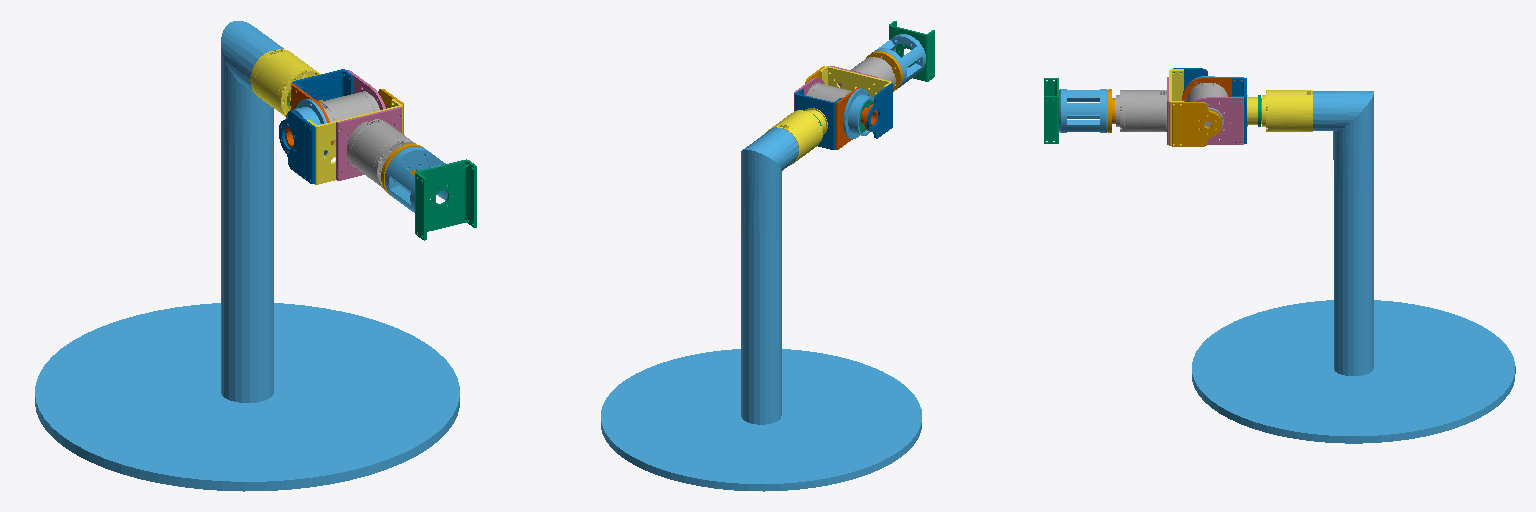
URDF robot description (full_assemble):
<?xml version="1.0" ?>
<robot name="full_assemble" xmlns:xacro="http://www.ros.org/wiki/xacro">

<link name="base_footprint"/>

<joint name="base_to_footprint" type="fixed">
  <parent link="base_footprint"/>
  <child link="base_link"/>
  <origin xyz="0 0 0" rpy="0 0 0"/>
</joint>

<link name="base_link">
  <inertial>
    <origin xyz="-2.515542343806863e-14 -0.000976562500000023 0.08286959134615383" rpy="0 0 0"/>
    <mass value="5.513495107050087"/>
    <inertia ixx="0.11442" iyy="0.114246" izz="0.068695" ixy="0.0" iyz="0.001492" ixz="-0.0"/>
  </inertial>
  <visual>
    <origin xyz="0 0 0" rpy="0 0 0"/>
    <geometry>
      <mesh filename="base_link.stl" scale="0.001 0.001 0.001"/>
    </geometry>
    <material name="silver"/>
  </visual>
  <collision>
    <origin xyz="0 0 0" rpy="0 0 0"/>
    <geometry>
      <mesh filename="base_link.stl" scale="0.001 0.001 0.001"/>
    </geometry>
  </collision>
</link>

<link name="output_support3_1">
  <inertial>
    <origin xyz="1.5400347663785398e-13 -0.0019999999996335033 -1.5543122344752192e-15" rpy="0 0 0"/>
    <mass value="0.010893393986506334"/>
    <inertia ixx="1e-06" iyy="2e-06" izz="1e-06" ixy="0.0" iyz="0.0" ixz="0.0"/>
  </inertial>
  <visual>
    <origin xyz="0.0 0.1139 -0.36" rpy="0 0 0"/>
    <geometry>
      <mesh filename="output_support3_1.stl" scale="0.001 0.001 0.001"/>
    </geometry>
    <material name="silver"/>
  </visual>
  <collision>
    <origin xyz="0.0 0.1139 -0.36" rpy="0 0 0"/>
    <geometry>
      <mesh filename="output_support3_1.stl" scale="0.001 0.001 0.001"/>
    </geometry>
  </collision>
</link>

<link name="output_support_1">
  <inertial>
    <origin xyz="1.890987366692798e-13 -0.007114253258033665 -1.5543122344752192e-15" rpy="0 0 0"/>
    <mass value="0.031035145871329013"/>
    <inertia ixx="3e-06" iyy="5e-06" izz="3e-06" ixy="-0.0" iyz="0.0" ixz="0.0"/>
  </inertial>
  <visual>
    <origin xyz="-0.0 0.1179 -0.36" rpy="0 0 0"/>
    <geometry>
      <mesh filename="output_support_1.stl" scale="0.001 0.001 0.001"/>
    </geometry>
    <material name="silver"/>
  </visual>
  <collision>
    <origin xyz="-0.0 0.1179 -0.36" rpy="0 0 0"/>
    <geometry>
      <mesh filename="output_support_1.stl" scale="0.001 0.001 0.001"/>
    </geometry>
  </collision>
</link>

<link name="output_connector_1">
  <inertial>
    <origin xyz="1.6209256159527285e-16 -0.00468229094210687 1.2684298056342413e-13" rpy="0 0 0"/>
    <mass value="0.043265150272751664"/>
    <inertia ixx="1.6e-05" iyy="3.5e-05" izz="2.1e-05" ixy="0.0" iyz="0.0" ixz="-0.0"/>
  </inertial>
  <visual>
    <origin xyz="-0.0 0.1319 -0.36" rpy="0 0 0"/>
    <geometry>
      <mesh filename="output_connector_1.stl" scale="0.001 0.001 0.001"/>
    </geometry>
    <material name="silver"/>
  </visual>
  <collision>
    <origin xyz="-0.0 0.1319 -0.36" rpy="0 0 0"/>
    <geometry>
      <mesh filename="output_connector_1.stl" scale="0.001 0.001 0.001"/>
    </geometry>
  </collision>
</link>

<link name="motor_side2_1">
  <inertial>
    <origin xyz="-0.001493844574866142 -0.02888279853166134 -0.029000000000001414" rpy="0 0 0"/>
    <mass value="0.025366571905479966"/>
    <inertia ixx="2.3e-05" iyy="1e-05" izz="1.3e-05" ixy="-0.0" iyz="0.0" ixz="0.0"/>
  </inertial>
  <visual>
    <origin xyz="0.02895 0.1379 -0.389" rpy="0 0 0"/>
    <geometry>
      <mesh filename="motor_side2_1.stl" scale="0.001 0.001 0.001"/>
    </geometry>
    <material name="silver"/>
  </visual>
  <collision>
    <origin xyz="0.02895 0.1379 -0.389" rpy="0 0 0"/>
    <geometry>
      <mesh filename="motor_side2_1.stl" scale="0.001 0.001 0.001"/>
    </geometry>
  </collision>
</link>

<link name="motor_side_1">
  <inertial>
    <origin xyz="0.001493844574866142 -0.028882798531661535 -0.029000000000001858" rpy="0 0 0"/>
    <mass value="0.02536657190547998"/>
    <inertia ixx="2.3e-05" iyy="1e-05" izz="1.3e-05" ixy="0.0" iyz="0.0" ixz="0.0"/>
  </inertial>
  <visual>
    <origin xyz="-0.02895 0.1379 -0.389" rpy="0 0 0"/>
    <geometry>
      <mesh filename="motor_side_1.stl" scale="0.001 0.001 0.001"/>
    </geometry>
    <material name="silver"/>
  </visual>
  <collision>
    <origin xyz="-0.02895 0.1379 -0.389" rpy="0 0 0"/>
    <geometry>
      <mesh filename="motor_side_1.stl" scale="0.001 0.001 0.001"/>
    </geometry>
  </collision>
</link>

<link name="motor_1">
  <inertial>
    <origin xyz="0.031351405997629256 6.626127693754036e-08 -1.470049248997185e-09" rpy="0 0 0"/>
    <mass value="0.33029848857980765"/>
    <inertia ixx="0.000111" iyy="0.000151" izz="0.000154" ixy="0.0" iyz="-0.0" ixz="-0.0"/>
  </inertial>
  <visual>
    <origin xyz="0.02895 0.1799 -0.36" rpy="0 0 0"/>
    <geometry>
      <mesh filename="motor_1.stl" scale="0.001 0.001 0.001"/>
    </geometry>
    <material name="silver"/>
  </visual>
  <collision>
    <origin xyz="0.02895 0.1799 -0.36" rpy="0 0 0"/>
    <geometry>
      <mesh filename="motor_1.stl" scale="0.001 0.001 0.001"/>
    </geometry>
  </collision>
</link>

<link name="output_connector3_1">
  <inertial>
    <origin xyz="0.0038399224911232696 -0.014367781223695891 -1.8318679906315083e-15" rpy="0 0 0"/>
    <mass value="0.031188103074646926"/>
    <inertia ixx="1.6e-05" iyy="7e-06" izz="9e-06" ixy="0.0" iyz="0.0" ixz="0.0"/>
  </inertial>
  <visual>
    <origin xyz="-0.03495 0.1799 -0.36" rpy="0 0 0"/>
    <geometry>
      <mesh filename="output_connector3_1.stl" scale="0.001 0.001 0.001"/>
    </geometry>
    <material name="silver"/>
  </visual>
  <collision>
    <origin xyz="-0.03495 0.1799 -0.36" rpy="0 0 0"/>
    <geometry>
      <mesh filename="output_connector3_1.stl" scale="0.001 0.001 0.001"/>
    </geometry>
  </collision>
</link>

<link name="bearing_housing_1">
  <inertial>
    <origin xyz="-0.0060896907216490895 3.708144902248023e-13 -1.609823385706477e-15" rpy="0 0 0"/>
    <mass value="0.011427543277432882"/>
    <inertia ixx="7e-06" iyy="4e-06" izz="4e-06" ixy="-0.0" iyz="-0.0" ixz="0.0"/>
  </inertial>
  <visual>
    <origin xyz="0.03195 0.1799 -0.36" rpy="0 0 0"/>
    <geometry>
      <mesh filename="bearing_housing_1.stl" scale="0.001 0.001 0.001"/>
    </geometry>
    <material name="silver"/>
  </visual>
  <collision>
    <origin xyz="0.03195 0.1799 -0.36" rpy="0 0 0"/>
    <geometry>
      <mesh filename="bearing_housing_1.stl" scale="0.001 0.001 0.001"/>
    </geometry>
  </collision>
</link>

<link name="bearing6022_1">
  <inertial>
    <origin xyz="-0.005999999999998909 3.672895321216174e-13 -1.887379141862766e-15" rpy="0 0 0"/>
    <mass value="0.01354864191738157"/>
    <inertia ixx="4e-06" iyy="2e-06" izz="2e-06" ixy="0.0" iyz="0.0" ixz="0.0"/>
  </inertial>
  <visual>
    <origin xyz="0.03295 0.1799 -0.36" rpy="0 0 0"/>
    <geometry>
      <mesh filename="bearing6022_1.stl" scale="0.001 0.001 0.001"/>
    </geometry>
    <material name="silver"/>
  </visual>
  <collision>
    <origin xyz="0.03295 0.1799 -0.36" rpy="0 0 0"/>
    <geometry>
      <mesh filename="bearing6022_1.stl" scale="0.001 0.001 0.001"/>
    </geometry>
  </collision>
</link>

<link name="output_connector5_1">
  <inertial>
    <origin xyz="-0.04752161856691327 -0.00221502766312065 -0.027000828138859845" rpy="0 0 0"/>
    <mass value="0.020648688290738768"/>
    <inertia ixx="7e-06" iyy="2.9e-05" izz="2.3e-05" ixy="-0.0" iyz="-0.0" ixz="0.0"/>
  </inertial>
  <visual>
    <origin xyz="-0.03795 0.2219 -0.387" rpy="0 0 0"/>
    <geometry>
      <mesh filename="output_connector5_1.stl" scale="0.001 0.001 0.001"/>
    </geometry>
    <material name="silver"/>
  </visual>
  <collision>
    <origin xyz="-0.03795 0.2219 -0.387" rpy="0 0 0"/>
    <geometry>
      <mesh filename="output_connector5_1.stl" scale="0.001 0.001 0.001"/>
    </geometry>
  </collision>
</link>

<link name="output_connector4_1">
  <inertial>
    <origin xyz="-0.0014933258024397572 0.021568275018213262 -0.02700000000000158" rpy="0 0 0"/>
    <mass value="0.008122894737451505"/>
    <inertia ixx="4e-06" iyy="2e-06" izz="2e-06" ixy="0.0" iyz="0.0" ixz="0.0"/>
  </inertial>
  <visual>
    <origin xyz="0.05695 0.2219 -0.387" rpy="0 0 0"/>
    <geometry>
      <mesh filename="output_connector4_1.stl" scale="0.001 0.001 0.001"/>
    </geometry>
    <material name="silver"/>
  </visual>
  <collision>
    <origin xyz="0.05695 0.2219 -0.387" rpy="0 0 0"/>
    <geometry>
      <mesh filename="output_connector4_1.stl" scale="0.001 0.001 0.001"/>
    </geometry>
  </collision>
</link>

<link name="bearing_axis_1">
  <inertial>
    <origin xyz="0.008678644763494184 3.7422842602552464e-13 -1.5543122344752192e-15" rpy="0 0 0"/>
    <mass value="0.005737333583618358"/>
    <inertia ixx="1e-06" iyy="1e-06" izz="1e-06" ixy="0.0" iyz="0.0" ixz="0.0"/>
  </inertial>
  <visual>
    <origin xyz="0.05695 0.1799 -0.36" rpy="0 0 0"/>
    <geometry>
      <mesh filename="bearing_axis_1.stl" scale="0.001 0.001 0.001"/>
    </geometry>
    <material name="silver"/>
  </visual>
  <collision>
    <origin xyz="0.05695 0.1799 -0.36" rpy="0 0 0"/>
    <geometry>
      <mesh filename="bearing_axis_1.stl" scale="0.001 0.001 0.001"/>
    </geometry>
  </collision>
</link>

<link name="motor_front_housing2_1">
  <inertial>
    <origin xyz="-0.03200000000036598 -0.001487279573599981 -0.021999999999994135" rpy="0 0 0"/>
    <mass value="0.008523906701431874"/>
    <inertia ixx="3e-06" iyy="8e-06" izz="4e-06" ixy="-0.0" iyz="0.0" ixz="-0.0"/>
  </inertial>
  <visual>
    <origin xyz="-0.032 0.2279 -0.382" rpy="0 0 0"/>
    <geometry>
      <mesh filename="motor_front_housing2_1.stl" scale="0.001 0.001 0.001"/>
    </geometry>
    <material name="silver"/>
  </visual>
  <collision>
    <origin xyz="-0.032 0.2279 -0.382" rpy="0 0 0"/>
    <geometry>
      <mesh filename="motor_front_housing2_1.stl" scale="0.001 0.001 0.001"/>
    </geometry>
  </collision>
</link>

<link name="motor2_1">
  <inertial>
    <origin xyz="6.627705426254238e-08 -0.031351406008431115 -1.470950583559727e-09" rpy="0 0 0"/>
    <mass value="0.33029848857980776"/>
    <inertia ixx="0.000151" iyy="0.000111" izz="0.000154" ixy="-0.0" iyz="0.0" ixz="-0.0"/>
  </inertial>
  <visual>
    <origin xyz="0.0 0.2309 -0.36" rpy="0 0 0"/>
    <geometry>
      <mesh filename="motor2_1.stl" scale="0.001 0.001 0.001"/>
    </geometry>
    <material name="silver"/>
  </visual>
  <collision>
    <origin xyz="0.0 0.2309 -0.36" rpy="0 0 0"/>
    <geometry>
      <mesh filename="motor2_1.stl" scale="0.001 0.001 0.001"/>
    </geometry>
  </collision>
</link>

<link name="output_connector6_1">
  <inertial>
    <origin xyz="-3.717046440258424e-13 -0.005551801742972429 -5.551115123125783e-17" rpy="0 0 0"/>
    <mass value="0.01461519167932431"/>
    <inertia ixx="2e-06" iyy="5e-06" izz="2e-06" ixy="0.0" iyz="0.0" ixz="-0.0"/>
  </inertial>
  <visual>
    <origin xyz="0.0 0.2948 -0.36" rpy="0 0 0"/>
    <geometry>
      <mesh filename="output_connector6_1.stl" scale="0.001 0.001 0.001"/>
    </geometry>
    <material name="silver"/>
  </visual>
  <collision>
    <origin xyz="0.0 0.2948 -0.36" rpy="0 0 0"/>
    <geometry>
      <mesh filename="output_connector6_1.stl" scale="0.001 0.001 0.001"/>
    </geometry>
  </collision>
</link>

<link name="arm_shoulder_frame2_1">
  <inertial>
    <origin xyz="-3.557328449562591e-13 -0.026508015567758336 -1.3877787807814457e-15" rpy="0 0 0"/>
    <mass value="0.05319229489327615"/>
    <inertia ixx="3.4e-05" iyy="2.6e-05" izz="3.9e-05" ixy="-0.0" iyz="-0.0" ixz="0.0"/>
  </inertial>
  <visual>
    <origin xyz="0.0 0.3038 -0.36" rpy="0 0 0"/>
    <geometry>
      <mesh filename="arm_shoulder_frame2_1.stl" scale="0.001 0.001 0.001"/>
    </geometry>
    <material name="silver"/>
  </visual>
  <collision>
    <origin xyz="0.0 0.3038 -0.36" rpy="0 0 0"/>
    <geometry>
      <mesh filename="arm_shoulder_frame2_1.stl" scale="0.001 0.001 0.001"/>
    </geometry>
  </collision>
</link>

<link name="output_connector_elbow_1">
  <inertial>
    <origin xyz="-3.6555203308807903e-13 -0.004682290941738665 -1.2972956042744954e-13" rpy="0 0 0"/>
    <mass value="0.016024129730648744"/>
    <inertia ixx="6e-06" iyy="1.3e-05" izz="8e-06" ixy="-0.0" iyz="-0.0" ixz="0.0"/>
  </inertial>
  <visual>
    <origin xyz="0.0 0.3638 -0.36" rpy="0 0 0"/>
    <geometry>
      <mesh filename="output_connector_elbow_1.stl" scale="0.001 0.001 0.001"/>
    </geometry>
    <material name="silver"/>
  </visual>
  <collision>
    <origin xyz="0.0 0.3638 -0.36" rpy="0 0 0"/>
    <geometry>
      <mesh filename="output_connector_elbow_1.stl" scale="0.001 0.001 0.001"/>
    </geometry>
  </collision>
</link>

<link name="motor0_1">
  <inertial>
    <origin xyz="6.626090957251306e-08 -0.03135140599762895 -1.4700493600194875e-09" rpy="0 0 0"/>
    <mass value="0.33029848857980765"/>
    <inertia ixx="0.000151" iyy="0.000111" izz="0.000154" ixy="-0.0" iyz="0.0" ixz="-0.0"/>
  </inertial>
  <visual>
    <origin xyz="-0.0 0.05 -0.36" rpy="0 0 0"/>
    <geometry>
      <mesh filename="motor0_1.stl" scale="0.001 0.001 0.001"/>
    </geometry>
    <material name="silver"/>
  </visual>
  <collision>
    <origin xyz="-0.0 0.05 -0.36" rpy="0 0 0"/>
    <geometry>
      <mesh filename="motor0_1.stl" scale="0.001 0.001 0.001"/>
    </geometry>
  </collision>
</link>

<joint name="Revolute 11" type="continuous">
  <origin xyz="-0.0 -0.0639 0.0" rpy="0 0 0"/>
  <parent link="motor0_1"/>
  <child link="output_support3_1"/>
  <axis xyz="-0.0 -1.0 -0.0"/>
</joint>

<joint name="Rigid 12" type="fixed">
  <origin xyz="0.0 -0.004 0.0" rpy="0 0 0"/>
  <parent link="output_support3_1"/>
  <child link="output_support_1"/>
</joint>

<joint name="Rigid 13" type="fixed">
  <origin xyz="0.0 -0.014 0.0" rpy="0 0 0"/>
  <parent link="output_support_1"/>
  <child link="output_connector_1"/>
</joint>

<joint name="Rigid 14" type="fixed">
  <origin xyz="-0.02895 -0.006 0.029" rpy="0 0 0"/>
  <parent link="output_connector_1"/>
  <child link="motor_side2_1"/>
</joint>

<joint name="Rigid 15" type="fixed">
  <origin xyz="0.02895 -0.006 0.029" rpy="0 0 0"/>
  <parent link="output_connector_1"/>
  <child link="motor_side_1"/>
</joint>

<joint name="Rigid 16" type="fixed">
  <origin xyz="0.0 -0.042 -0.029" rpy="0 0 0"/>
  <parent link="motor_side2_1"/>
  <child link="motor_1"/>
</joint>

<joint name="Revolute 17" type="continuous">
  <origin xyz="0.0639 0.0 0.0" rpy="0 0 0"/>
  <parent link="motor_1"/>
  <child link="output_connector3_1"/>
  <axis xyz="1.0 0.0 -0.0"/>
</joint>

<joint name="Rigid 18" type="fixed">
  <origin xyz="-0.003 -0.042 -0.029" rpy="0 0 0"/>
  <parent link="motor_side2_1"/>
  <child link="bearing_housing_1"/>
</joint>

<joint name="Rigid 19" type="fixed">
  <origin xyz="-0.001 0.0 0.0" rpy="0 0 0"/>
  <parent link="bearing_housing_1"/>
  <child link="bearing6022_1"/>
</joint>

<joint name="Rigid 20" type="fixed">
  <origin xyz="0.003 -0.042 0.027" rpy="0 0 0"/>
  <parent link="output_connector3_1"/>
  <child link="output_connector5_1"/>
</joint>

<joint name="Rigid 22" type="fixed">
  <origin xyz="-0.0949 0.0 0.0" rpy="0 0 0"/>
  <parent link="output_connector5_1"/>
  <child link="output_connector4_1"/>
</joint>

<joint name="Rigid 23" type="fixed">
  <origin xyz="0.0 0.042 -0.027" rpy="0 0 0"/>
  <parent link="output_connector4_1"/>
  <child link="bearing_axis_1"/>
</joint>

<joint name="Rigid 24" type="fixed">
  <origin xyz="-0.00595 -0.006 -0.005" rpy="0 0 0"/>
  <parent link="output_connector5_1"/>
  <child link="motor_front_housing2_1"/>
</joint>

<joint name="Rigid 25" type="fixed">
  <origin xyz="-0.032 -0.003 -0.022" rpy="0 0 0"/>
  <parent link="motor_front_housing2_1"/>
  <child link="motor2_1"/>
</joint>

<joint name="Revolute 26" type="continuous">
  <origin xyz="0.0 -0.0639 0.0" rpy="0 0 0"/>
  <parent link="motor2_1"/>
  <child link="output_connector6_1"/>
  <axis xyz="0.0 -1.0 0.0"/>
</joint>

<joint name="Rigid 27" type="fixed">
  <origin xyz="0.0 -0.009 0.0" rpy="0 0 0"/>
  <parent link="output_connector6_1"/>
  <child link="arm_shoulder_frame2_1"/>
</joint>

<joint name="Rigid 28" type="fixed">
  <origin xyz="0.0 -0.06 0.0" rpy="0 0 0"/>
  <parent link="arm_shoulder_frame2_1"/>
  <child link="output_connector_elbow_1"/>
</joint>

<joint name="Revolute 29" type="continuous">
  <origin xyz="0.0 -0.05 0.36" rpy="0 0 0"/>
  <parent link="base_link"/>
  <child link="motor0_1"/>
  <axis xyz="0.0 -1.0 0.0"/>
</joint>

</robot>

--- What the picture shows (computed from the rendered views, not written in the file) ---
Views: 3 orthographic renders of the robot side by side, from view 1: azimuth 30°, elevation 25°; view 2: azimuth 150°, elevation 25°; view 3: azimuth 270°, elevation 25°.
Robot: full_assemble — 20 links, 19 joints (4 continuous, 15 fixed); root link base_footprint; default pose: all joints at 0.
Visible links, largest first — view 1: base_link, output_connector_elbow_1, motor0_1, motor2_1, arm_shoulder_frame2_1, output_connector4_1, motor_front_housing2_1, output_connector5_1, output_connector_1, motor_1, bearing_housing_1; view 2: base_link, motor0_1, arm_shoulder_frame2_1, output_connector5_1, output_connector_elbow_1, output_connector_1, output_connector4_1, bearing_housing_1, motor2_1; view 3: base_link, motor2_1, motor0_1, arm_shoulder_frame2_1, output_connector3_1, motor_side_1, output_connector_elbow_1, output_connector5_1, motor_1.
Link boxes in pixels (x1,y1,x2,y2): base_link: (35,21,459,491); output_connector_elbow_1: (415,159,476,240); motor0_1: (250,49,320,116); motor2_1: (347,119,415,188); arm_shoulder_frame2_1: (385,147,452,212); output_connector4_1: (279,111,314,183); motor_front_housing2_1: (336,107,401,180); output_connector5_1: (307,99,402,184); output_connector_1: (292,69,353,100); motor_1: (319,91,379,143); bearing_housing_1: (285,99,327,155); base_link: (601,128,921,491); motor0_1: (766,110,822,164); arm_shoulder_frame2_1: (872,34,925,87); output_connector5_1: (819,66,891,96); output_connector_elbow_1: (889,21,934,81); output_connector_1: (795,89,841,149); output_connector4_1: (866,83,892,138); bearing_housing_1: (843,88,873,138); motor2_1: (841,57,895,87); base_link: (1192,91,1515,443); motor2_1: (1115,90,1166,131); motor0_1: (1261,90,1312,131); arm_shoulder_frame2_1: (1059,89,1107,132); output_connector3_1: (1172,102,1221,146); motor_side_1: (1193,97,1243,144); output_connector_elbow_1: (1044,78,1058,143); output_connector5_1: (1169,69,1183,145); motor_1: (1187,83,1227,129).
Size in the robot's own frame: 0.3997 by 0.5817 by 0.392 metres.
Meshes: 19 distinct files referenced, 19 mesh visuals loaded (19 binary STL).